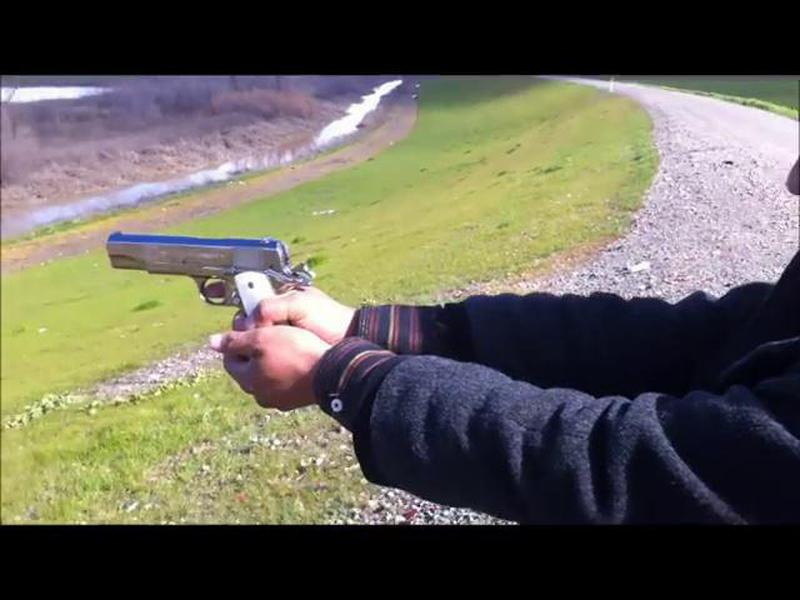Pistola: (93, 211, 316, 348)
